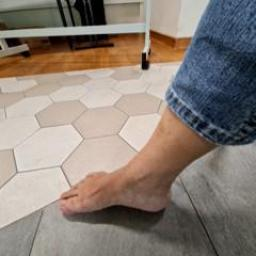Medial View -Right Foot-: (34, 142, 210, 227)
